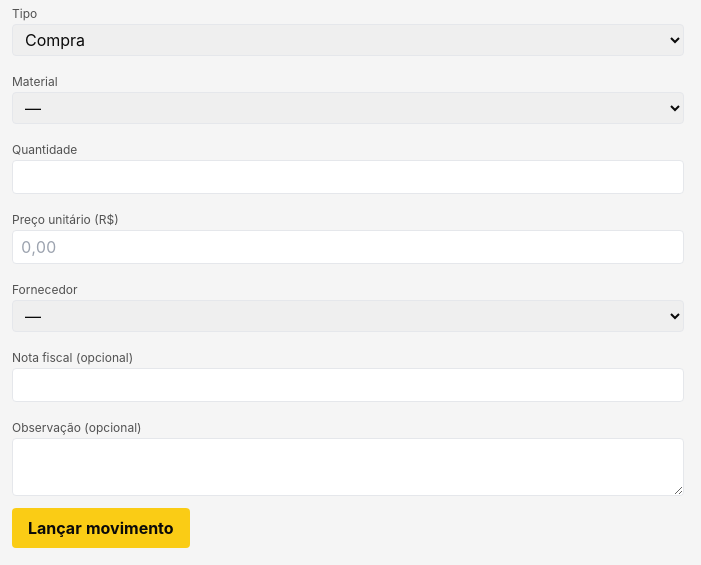
MovimentoForm › pre-fills destino when orcamento chosen on saida_obra
The width and height of the screenshot is (701, 565).
Select "Saída para obra" in the dropdown labelled "Tipo". click: (348, 40)
box: [12,24,684,56]
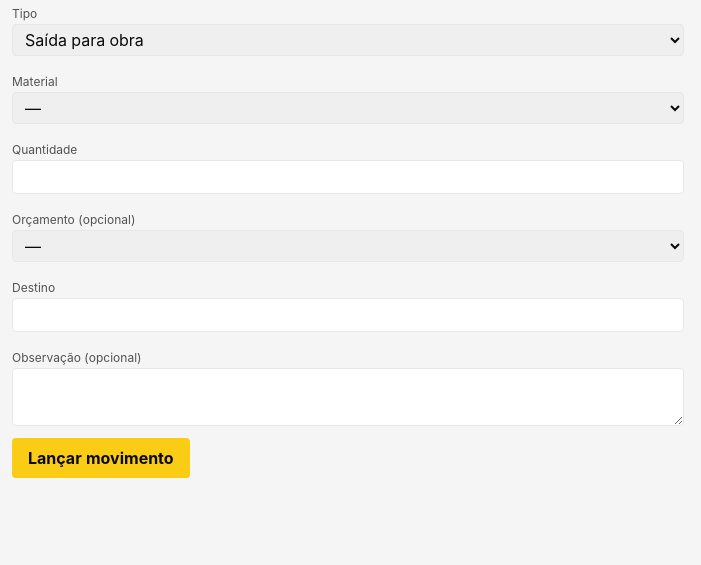
Select "ORC-1 — Cli" in the dropdown labelled "Orçamento (opcional)". click: (348, 246)
box: [12,230,684,262]
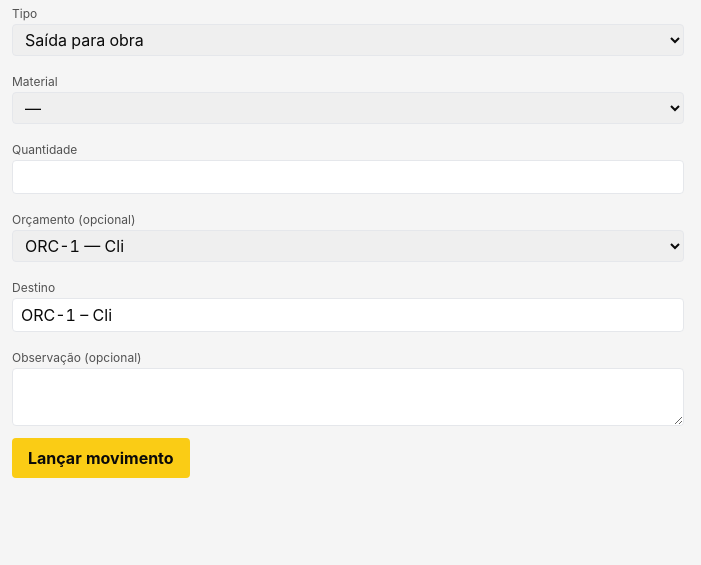
Expected: the field labelled "Destino" holds "ORC-1 – Cli", [12,298,684,332]
